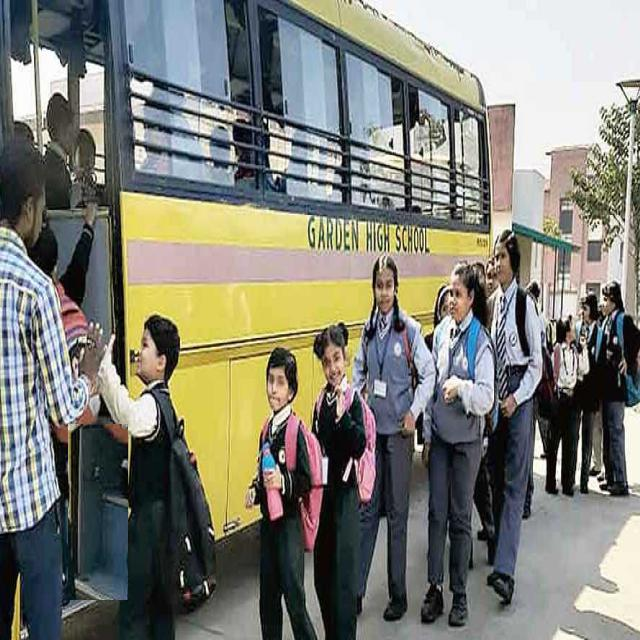bus: (69, 425, 128, 600)
